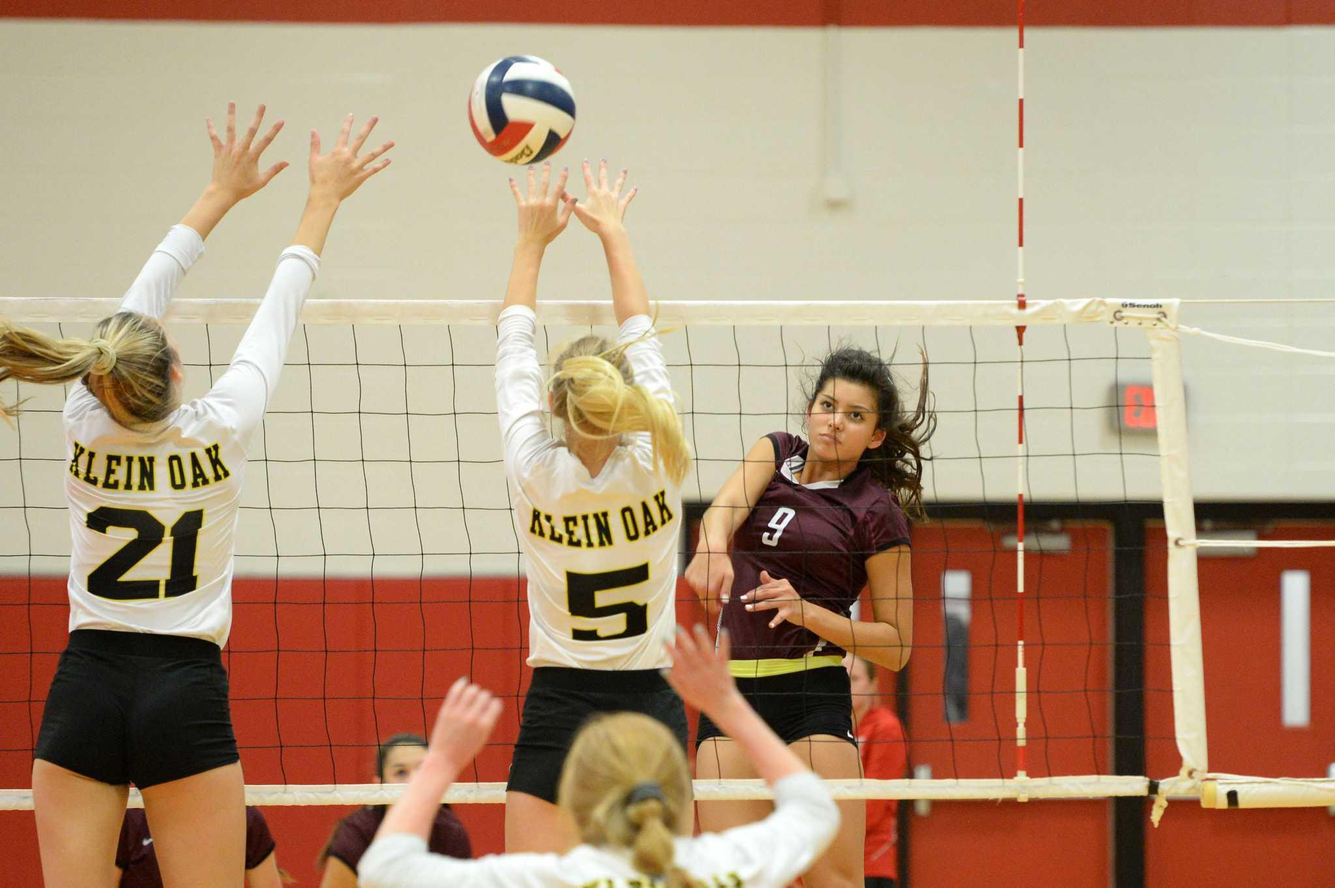ballon_volley: (467, 56, 579, 169)
